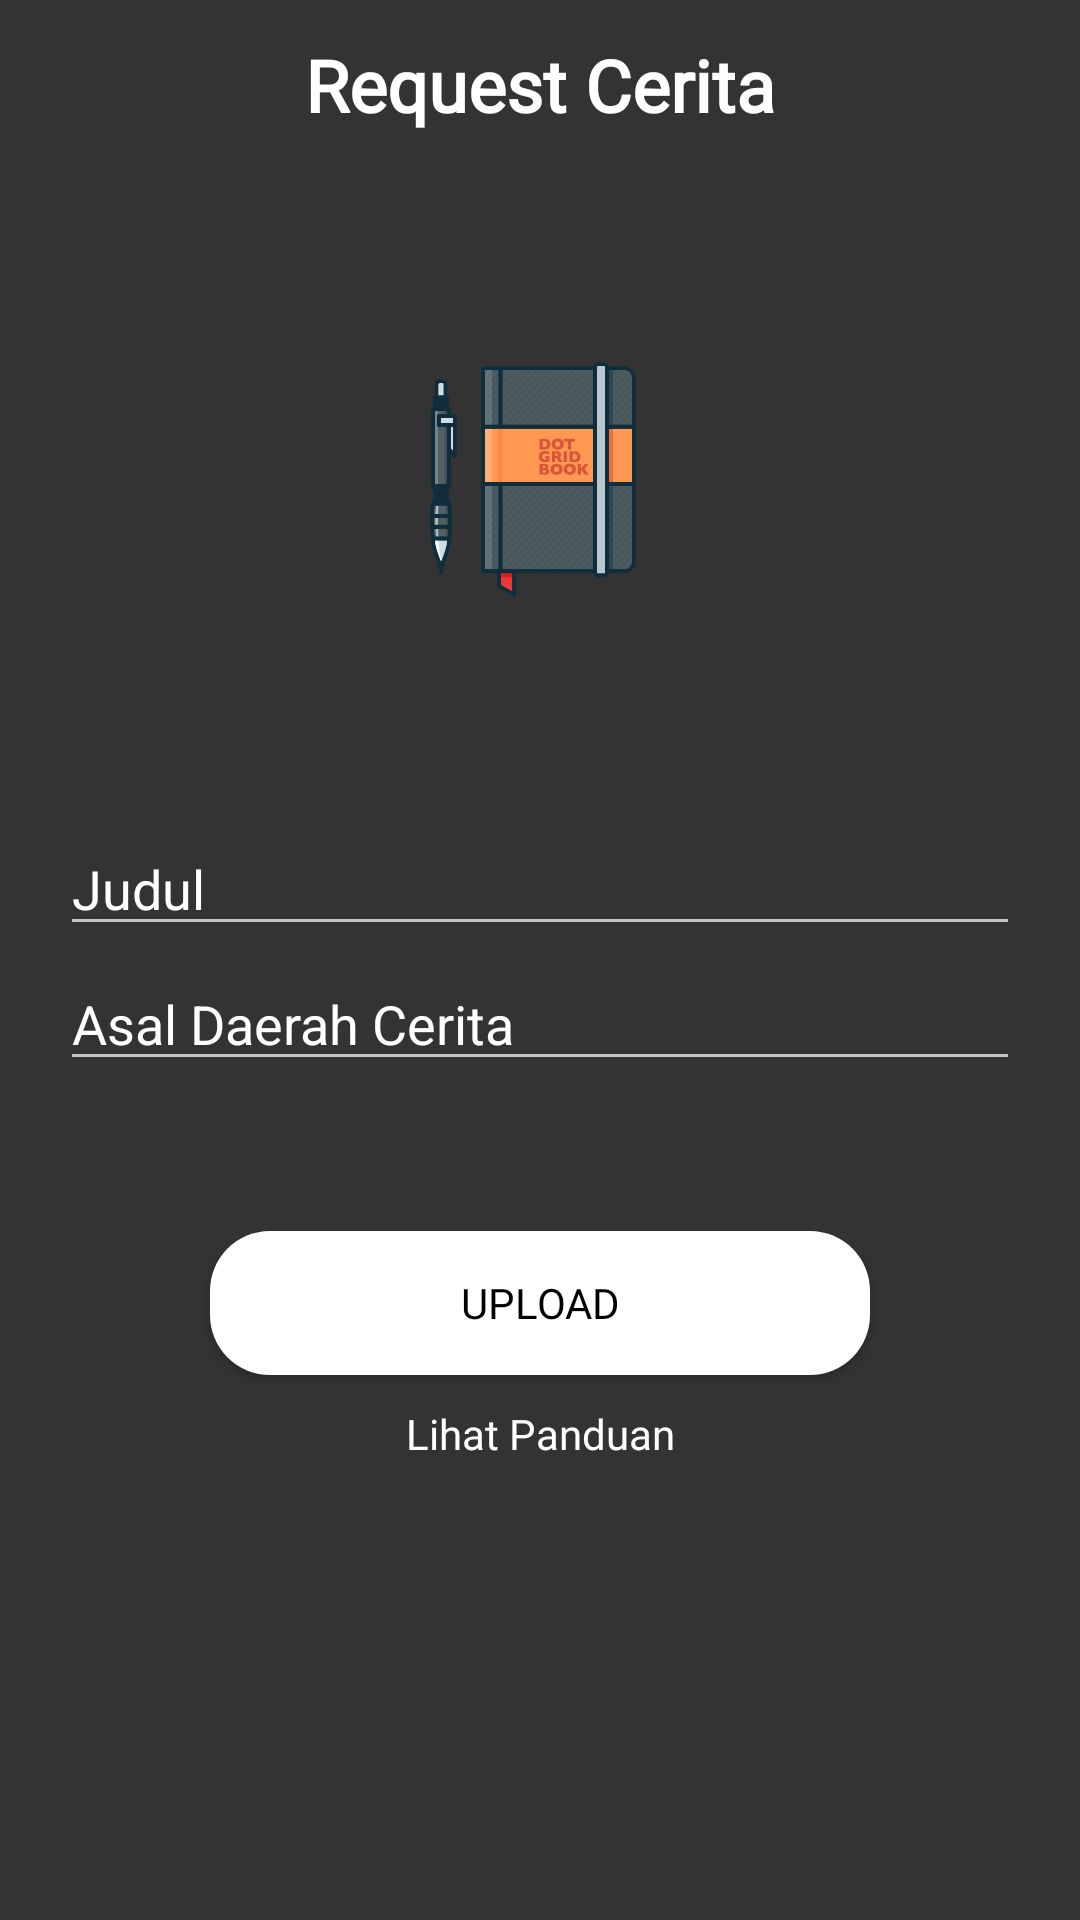

Icons on this 1080x1920 Android screen, each with the point to tap as (x=x, y=y):
story: (x=532, y=479)
